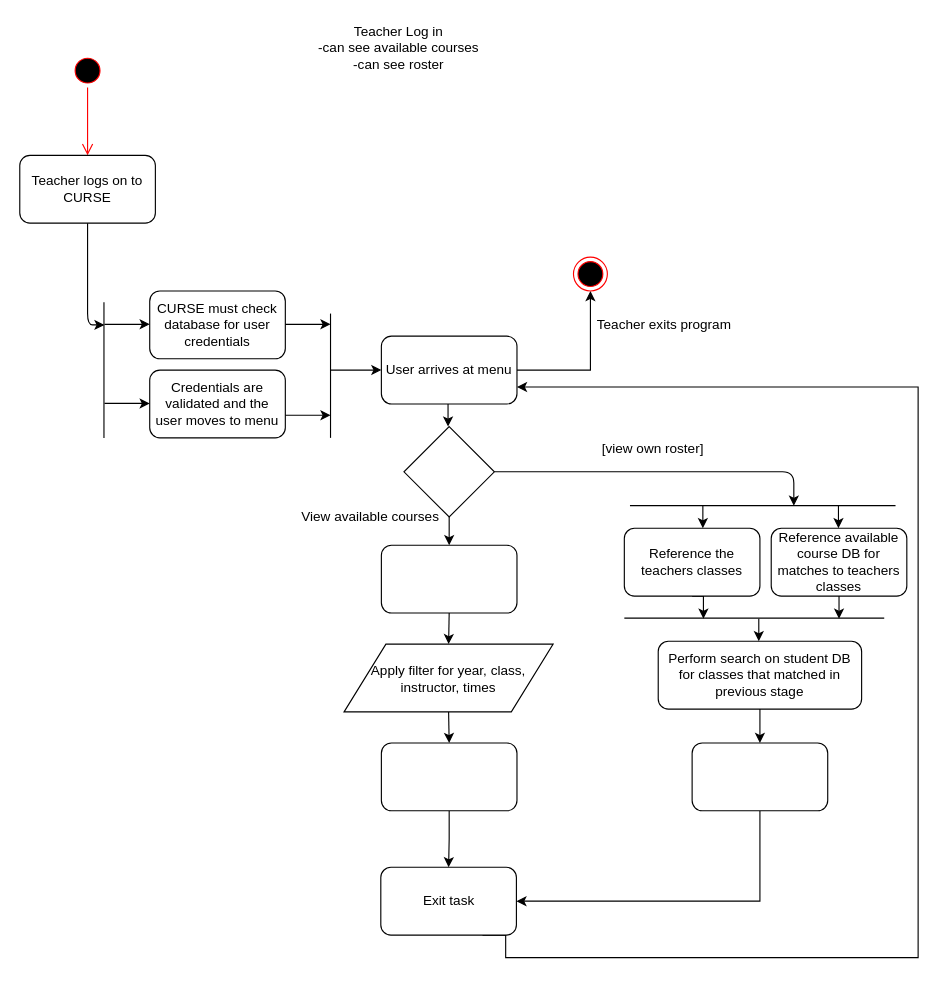
This 947x986 diagram has some shape labels left out. The centre of each missing label's shape, as x and y in pixels:
"Choose Task" belongs at (448,471).
"Print list of students with those courses in registered courses" belongs at (759,776).
"Program systematically prints course by course" belongs at (448,776).
"Reference courses DB for all courses" belongs at (448,578).
